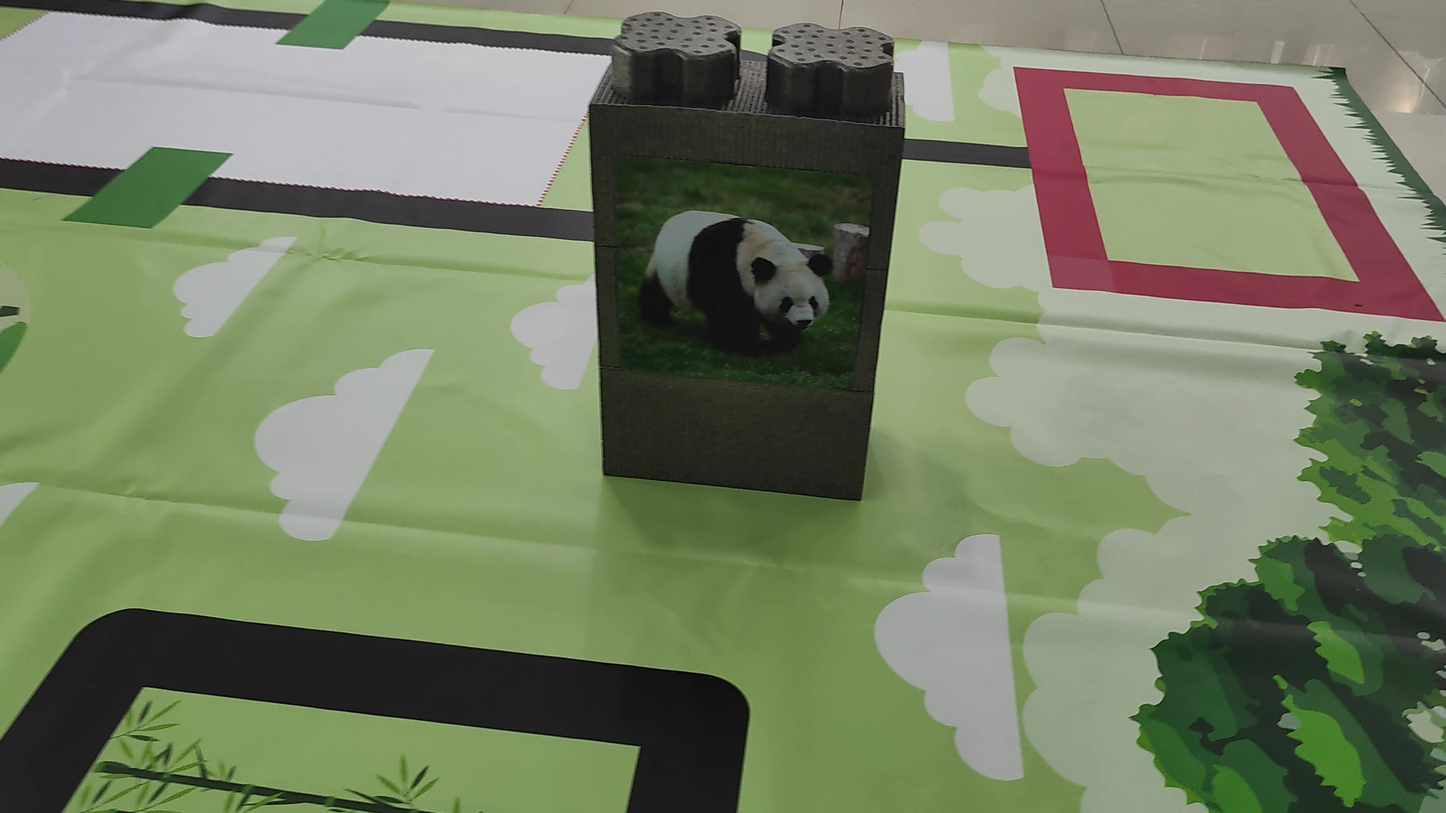panda: (637, 189, 842, 370)
